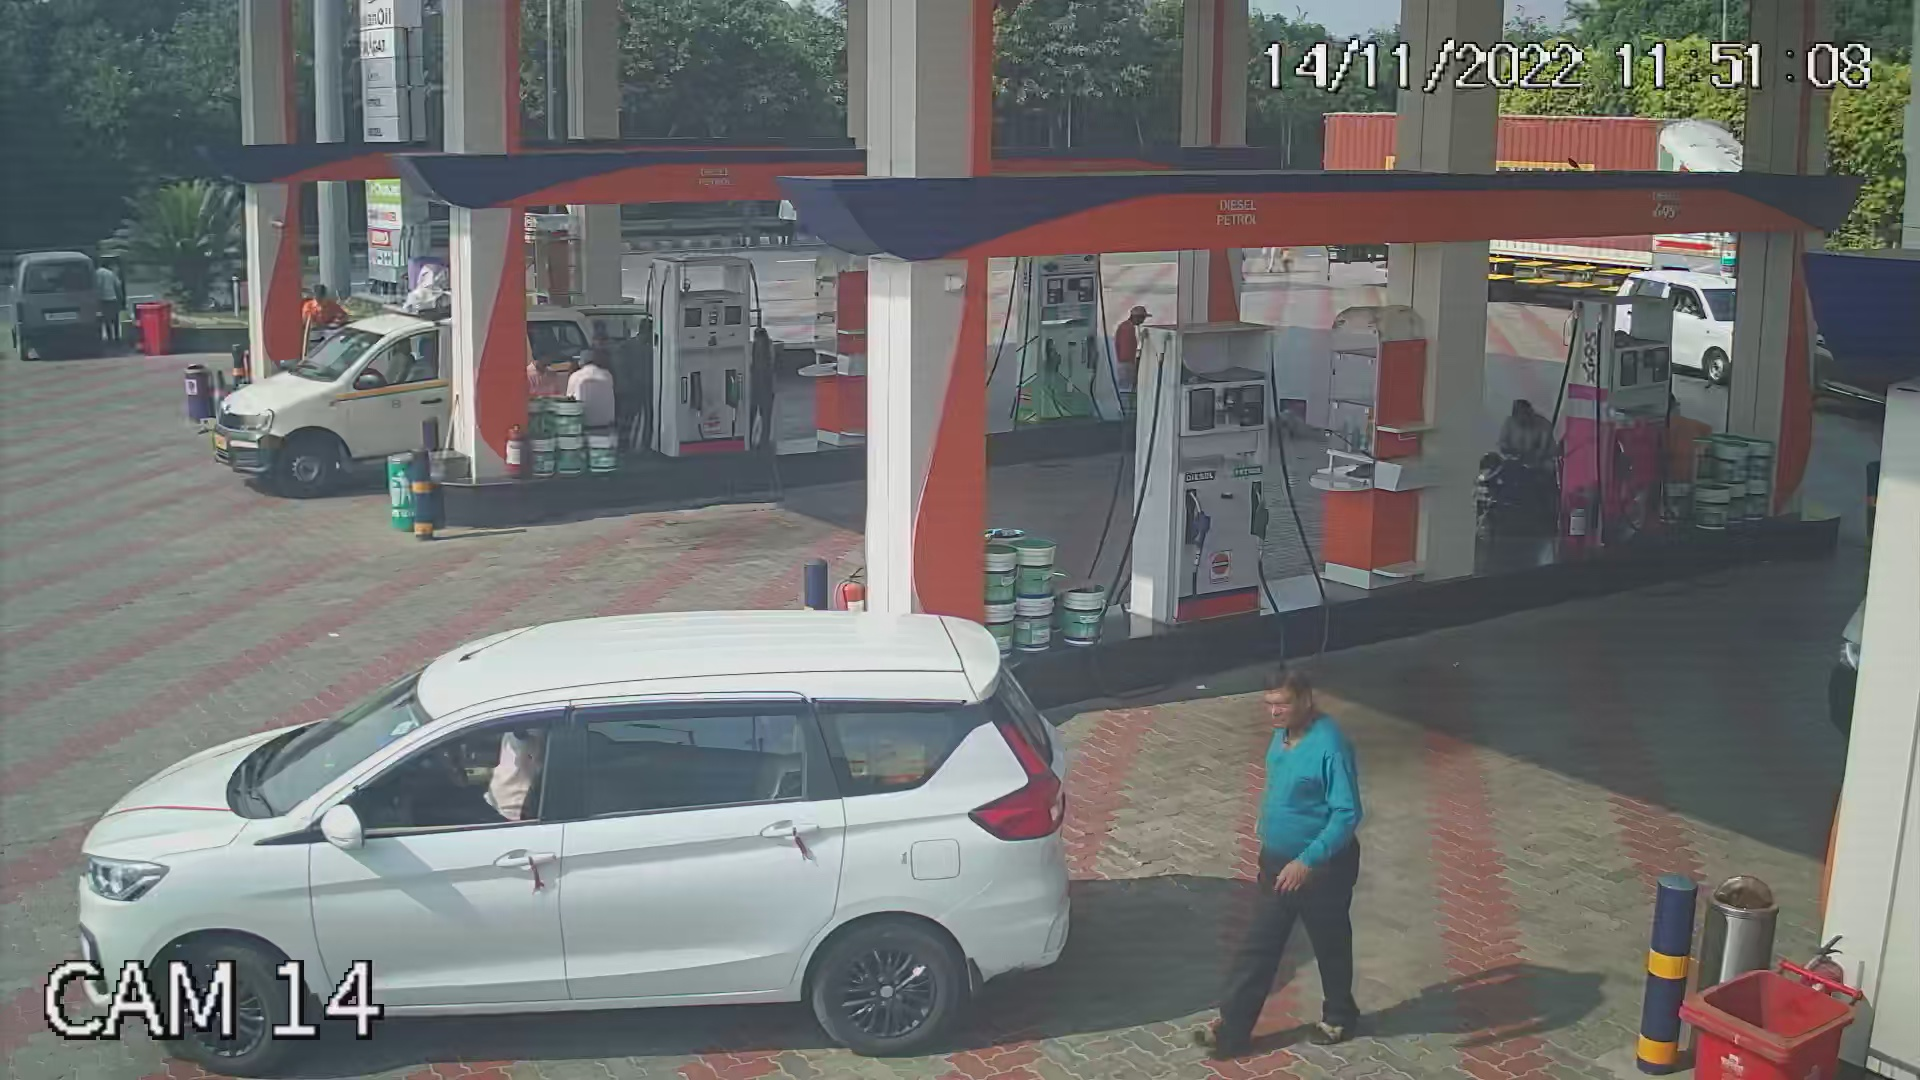Bike: (1473, 386, 1567, 537)
Car: (61, 572, 1088, 1069), (214, 278, 585, 500), (0, 240, 156, 364), (1601, 260, 1741, 386)
HMV: (1313, 105, 1746, 171)
Others: (1652, 389, 1722, 516), (1109, 301, 1162, 405)
